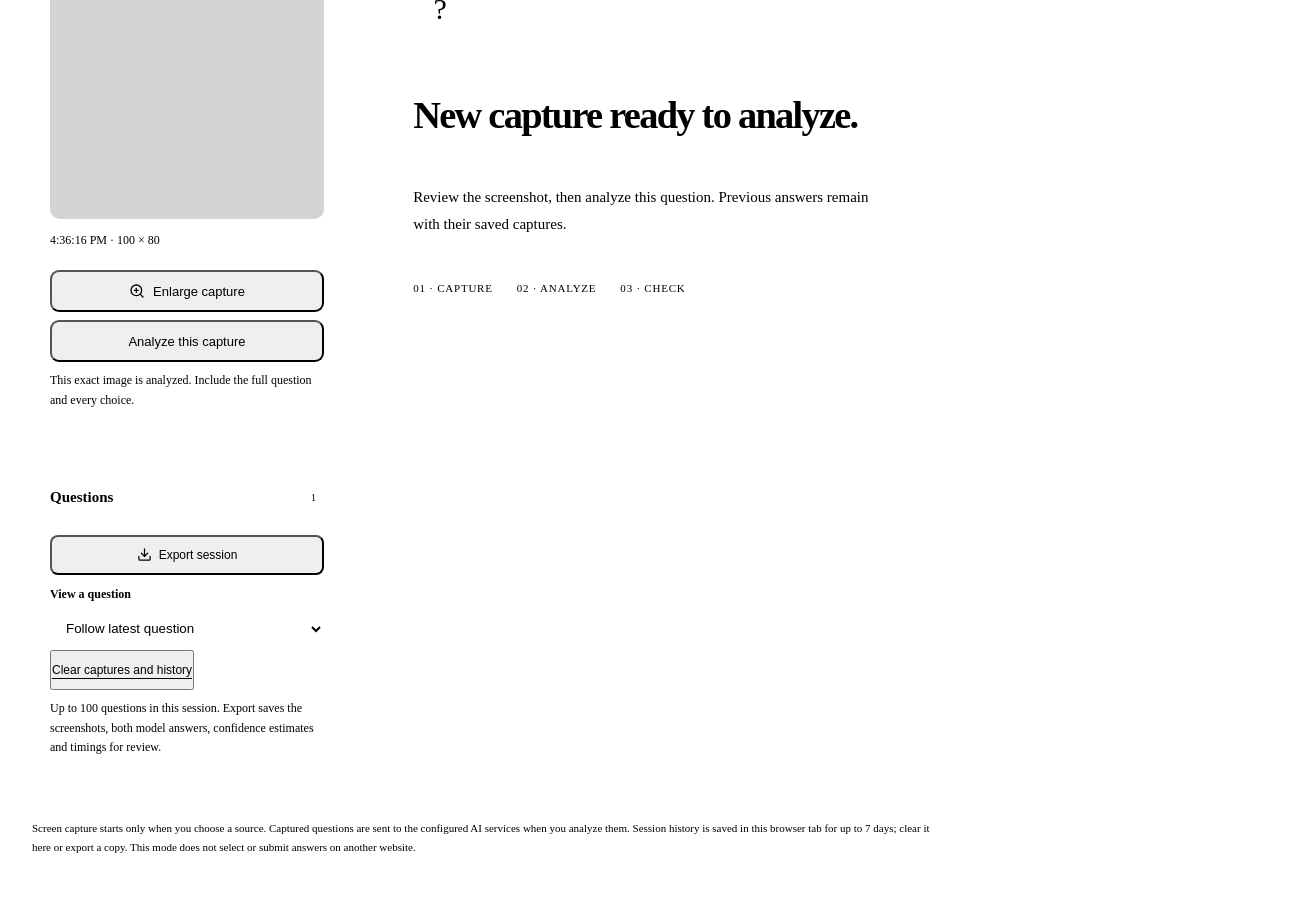
Scenario: aptitude workspace › hides the previous answer as soon as a different image is chosen, while allowing explicit history review
Earlier steps of the test are not shown.
(page scrolled)
Expected: the heading "B — 25%" is not shown
Expected: the heading "New capture ready to analyze." is shown, [413,92,858,138]
Step 1. Select "Capture 1 · Single model · Answer ready" in the dropdown labelled "View a question" → (187, 629), box [50,608,324,650]
(page scrolled)
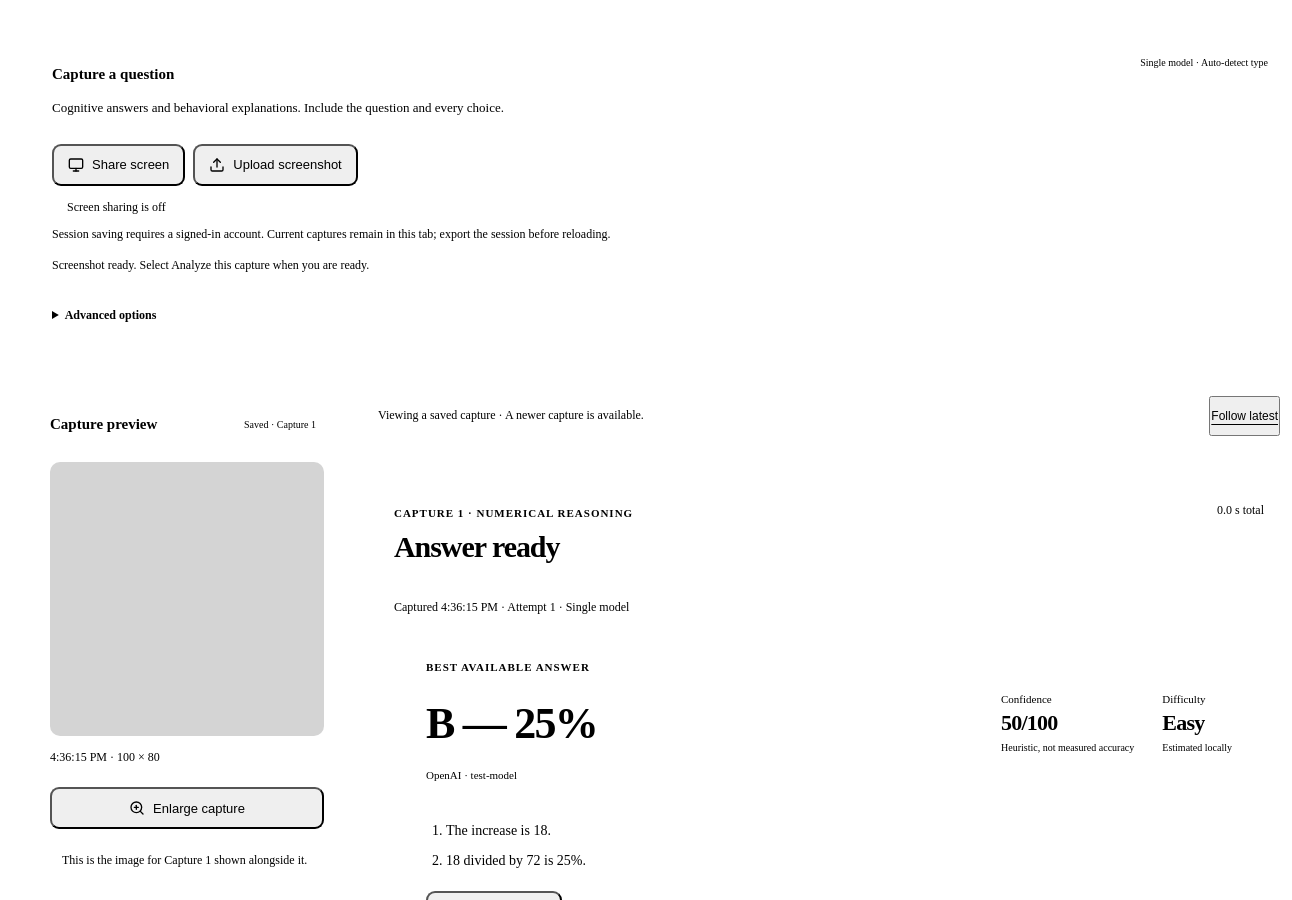
Now the text "Viewing a saved capture · A newer capture is available." is shown, box [378,408,644,423]
Now the heading "B — 25%" is shown, box [426,699,597,748]
Step 2. Click the button "Follow latest" → (1245, 416), box [1209,396,1280,436]
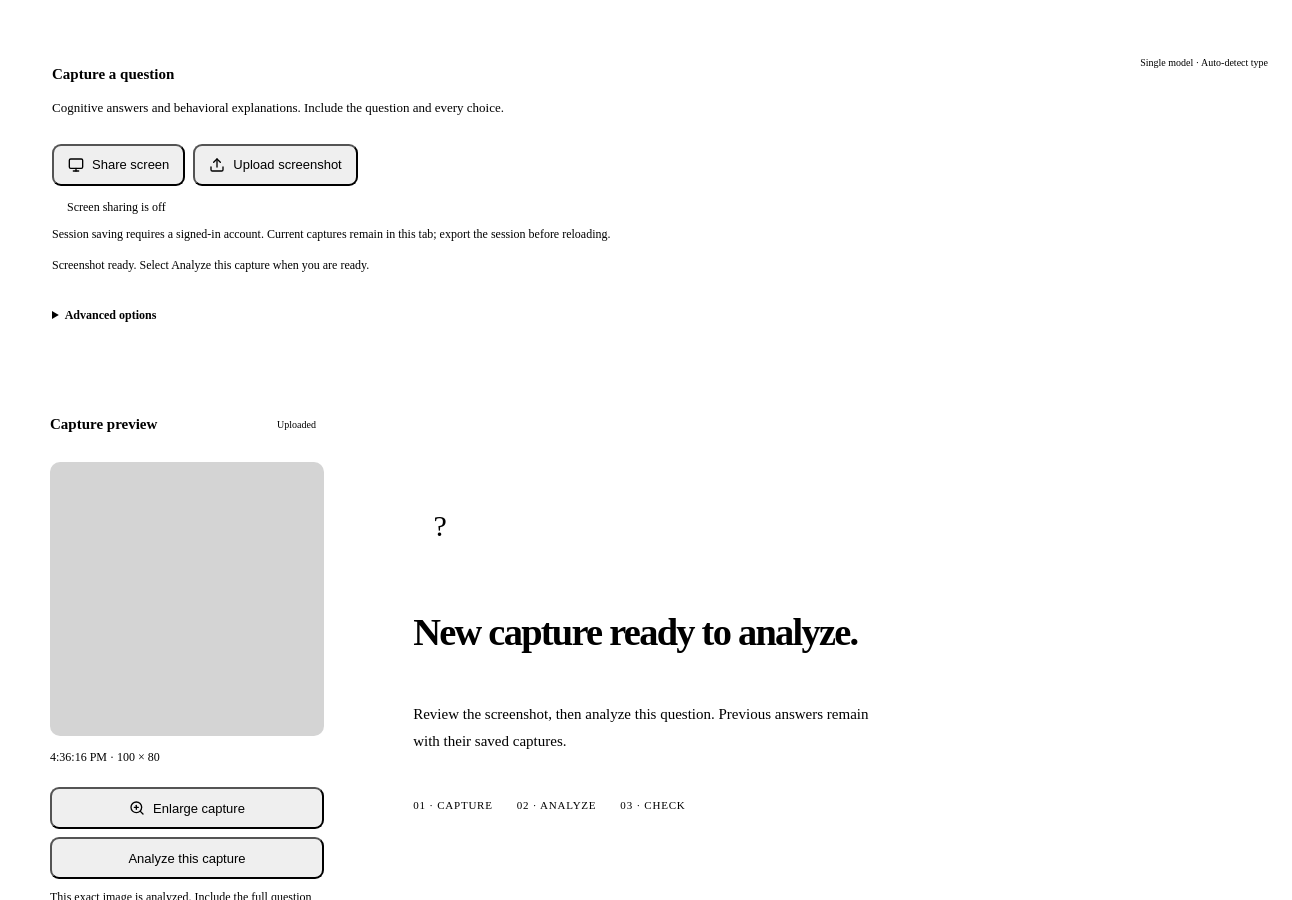
Now the heading "B — 25%" is gone
Step 3. Click the heading "Advanced options" → (111, 315), box [65,308,156,322]
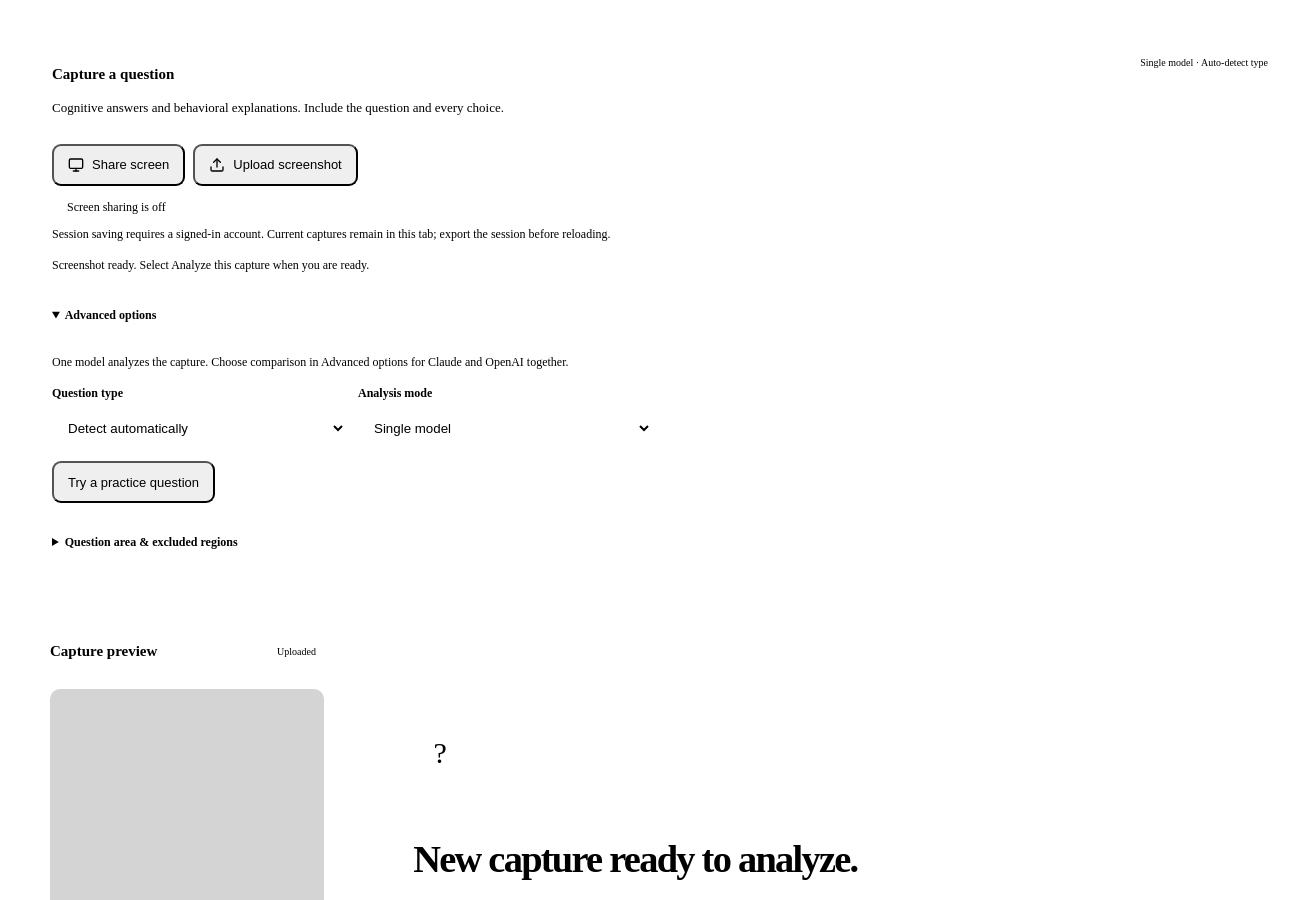
Step 4. Click the button "Try a practice question" → (134, 482), box [52,461,215,503]
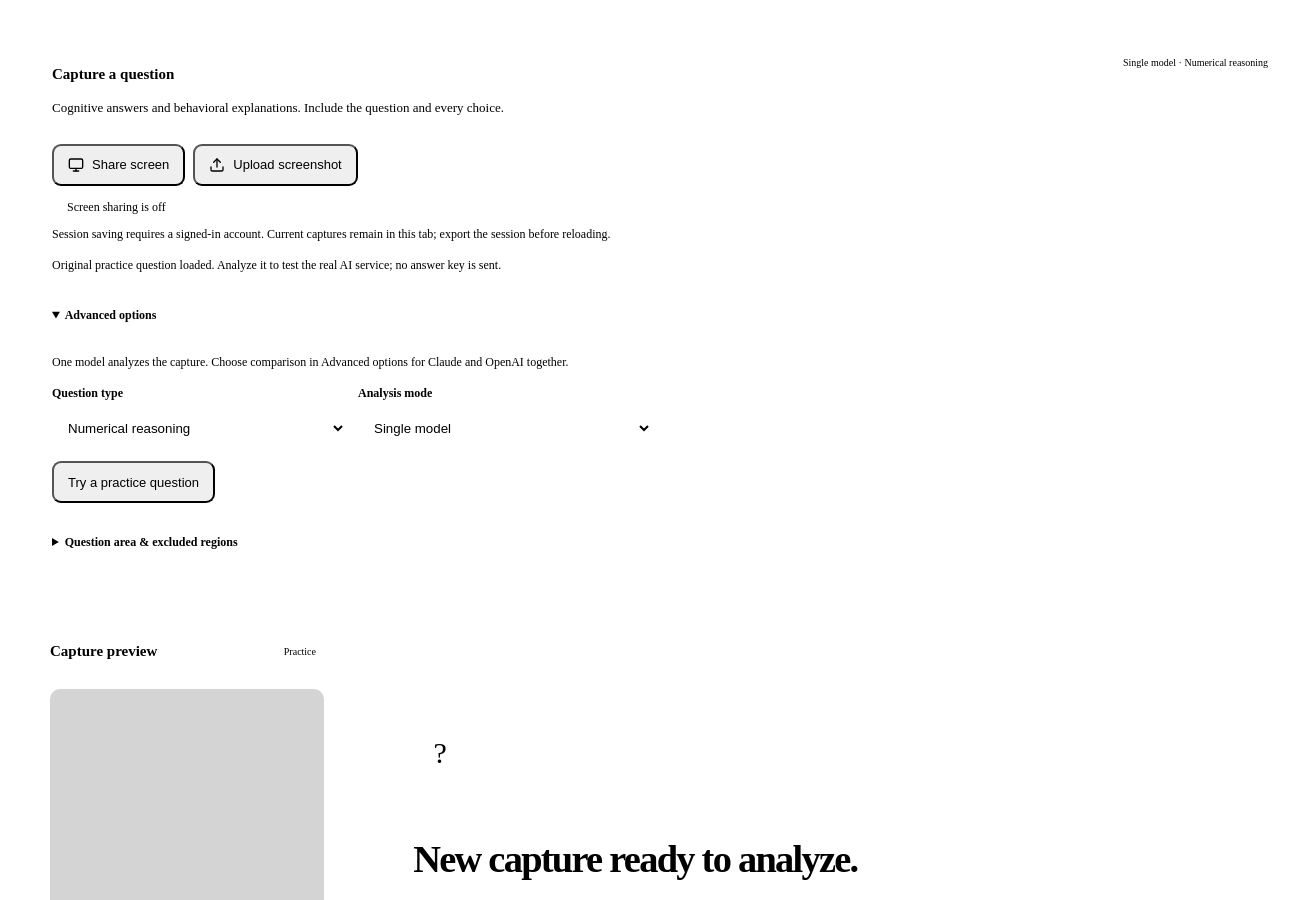
Expected: the heading "B — 25%" is not shown
Now the dropdown labelled "Question type" shows "Numerical reasoning", box [52,407,346,449]
